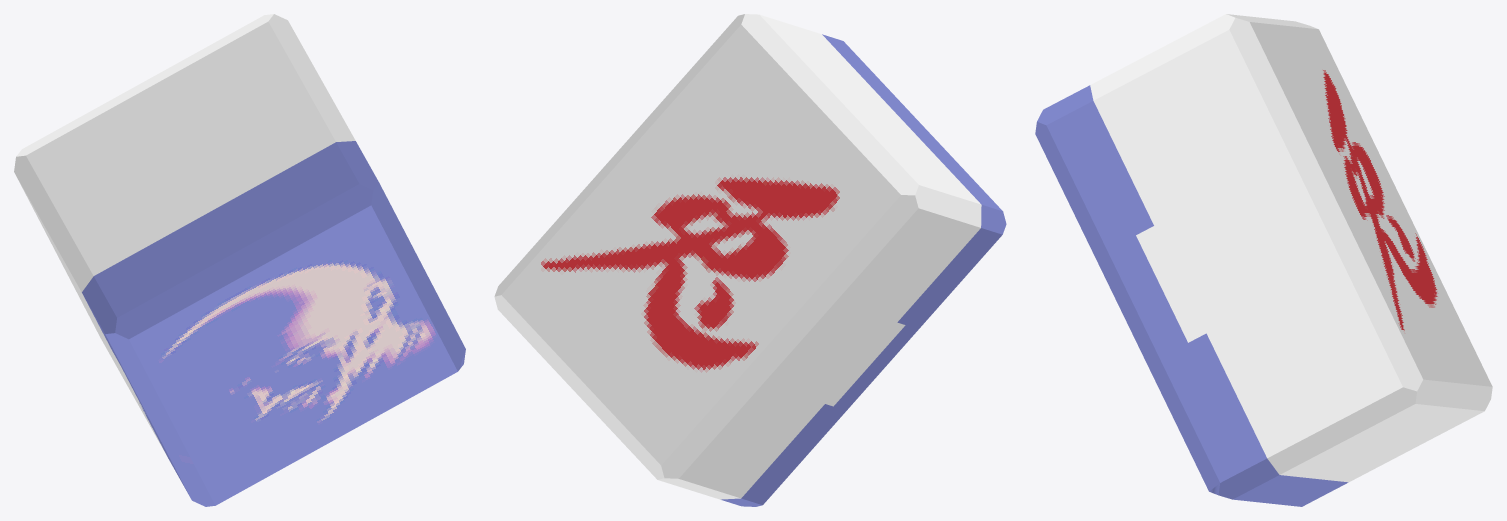
File: ps2_save-icons_usagiyaseinotouhaithearcadeyamashiromahjongarc.glb
3 renders of one model, left to right at view 1: azimuth 30°, elevation 25°; view 2: azimuth 150°, elevation 25°; view 3: azimuth 270°, elevation 25°, orthographic. The views are drawn at different scales.
Parts seen in each view (by area): view 1: icon.ico; view 2: icon.ico; view 3: icon.ico.
Boxes of the visible parts, x1,y1,x2,y2 form: icon.ico: (14,14,465,506); icon.ico: (494,14,1006,506); icon.ico: (1035,14,1492,506).
Size of the model in its own units: 3.91 by 4.62 by 3.79.
1 material, 1 textured.
